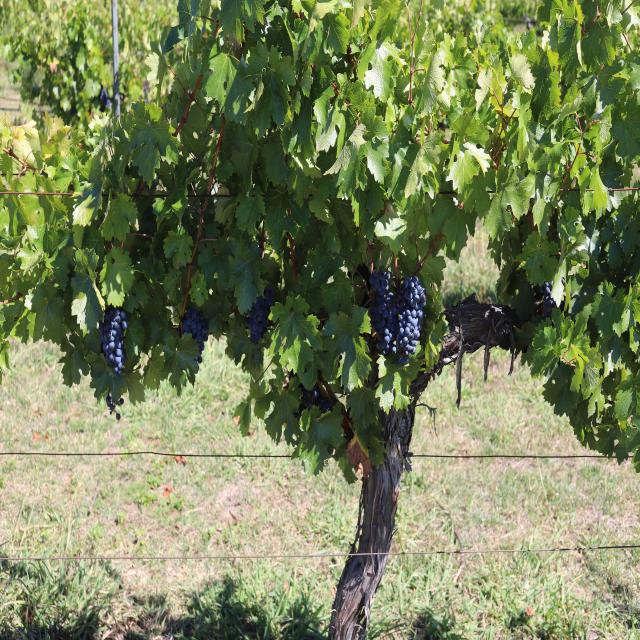grapes: (369, 270, 426, 365), (98, 307, 127, 374), (244, 287, 273, 343), (183, 309, 208, 363)
